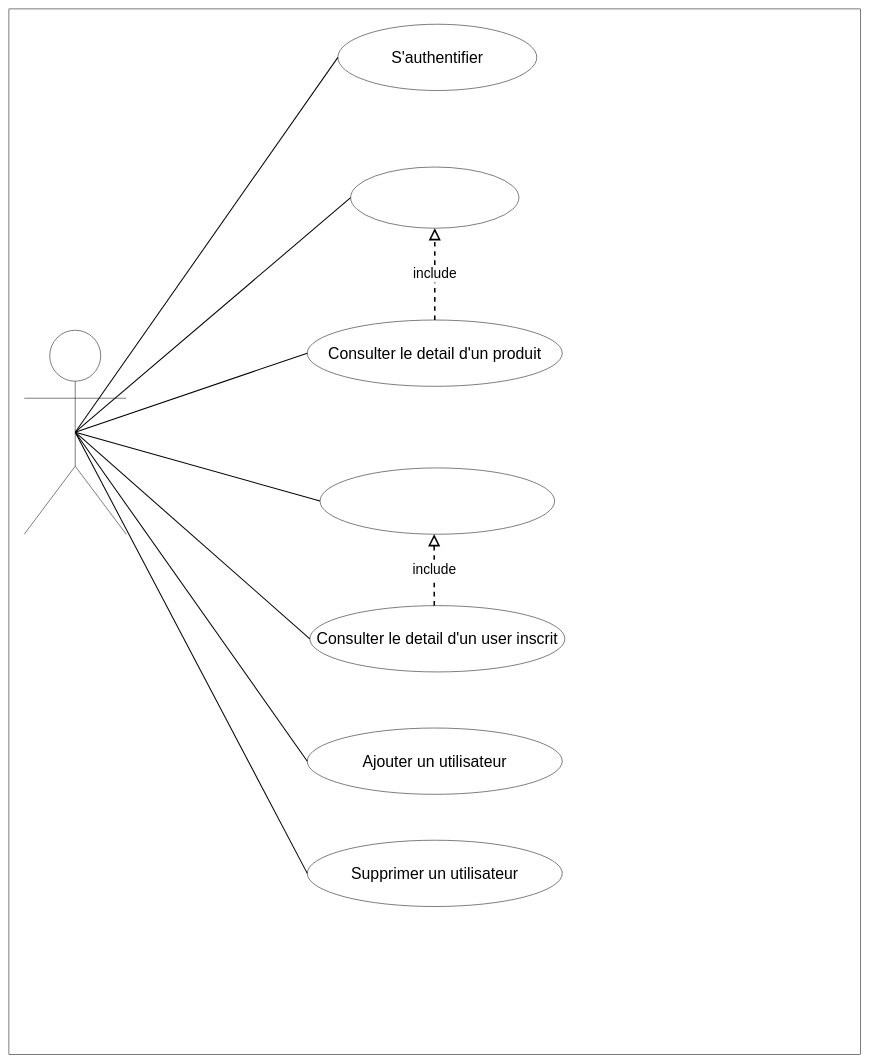
Image size: 870x1063. Some labels were removed from this diagram. The shapes that lost their labels are listed below. From the top down, each one's centre as x and y in pixels, then its label:
At point (434, 197): "Consulter la liste produits".
At point (75, 432): "Client".
At point (437, 500): "Consulter la liste des users inscrits".
